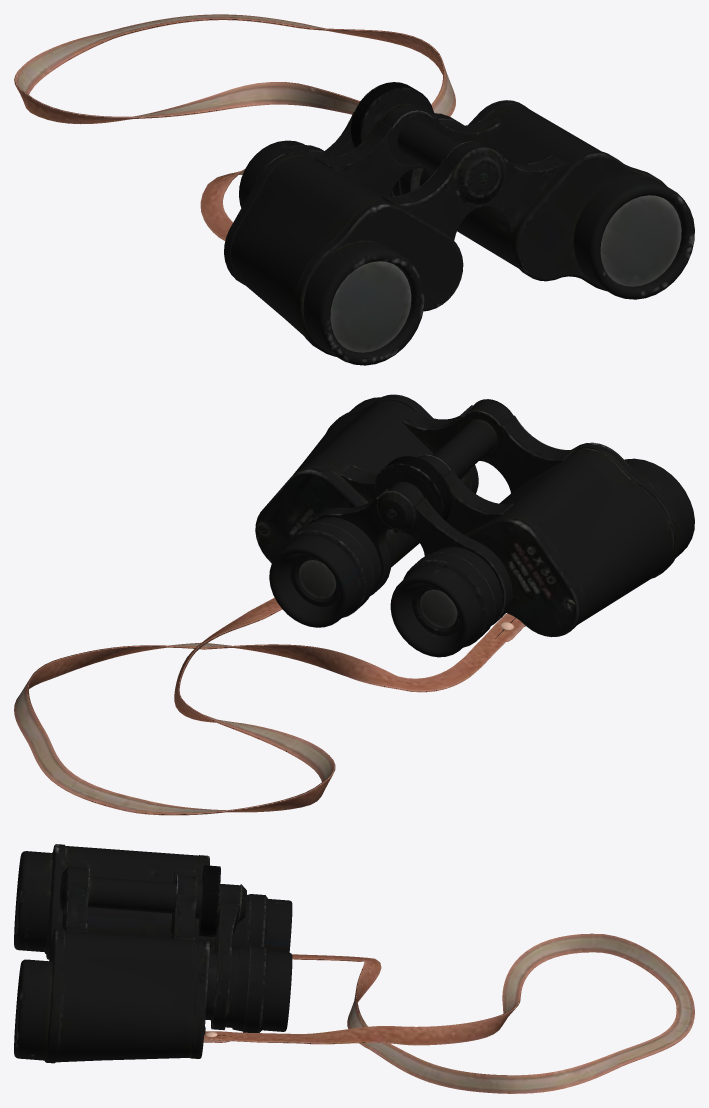
File: binoculars.glb
The picture shows the model from 3 angles, top to bottom: view 1: azimuth 30°, elevation 25°; view 2: azimuth 150°, elevation 25°; view 3: azimuth 270°, elevation 25°; orthographic projection. The views are drawn at different scales.
Parts seen in each view (by area): view 1: binoculars_right, binoculars_left, binoculars_strap, binoculars_column; view 2: binoculars_right, binoculars_left, binoculars_strap, binoculars_column; view 3: binoculars_left, binoculars_strap, binoculars_right, binoculars_column.
Part boxes in pixels (<box>): binoculars_right: <box>224,111,480,365</box>; binoculars_left: <box>390,100,694,299</box>; binoculars_strap: <box>14,14,455,240</box>; binoculars_column: <box>350,82,505,205</box>; binoculars_right: <box>390,415,694,657</box>; binoculars_left: <box>255,394,483,627</box>; binoculars_strap: <box>14,598,525,815</box>; binoculars_column: <box>373,399,513,533</box>; binoculars_left: <box>14,886,292,1063</box>; binoculars_strap: <box>203,933,694,1093</box>; binoculars_right: <box>14,844,292,959</box>; binoculars_column: <box>59,865,246,936</box>.
Size of the model in its own units: 0.1669 by 0.0663 by 0.2879.
Materials: 2 (2 with a texture image).
